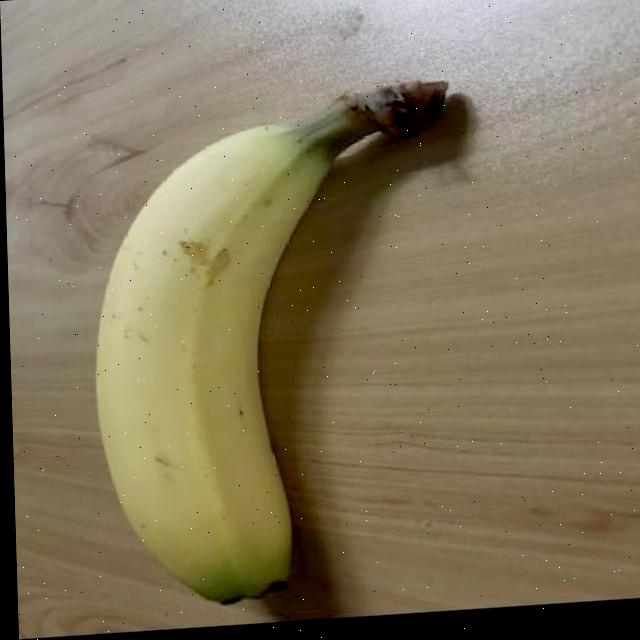banana: (85, 72, 457, 613)
